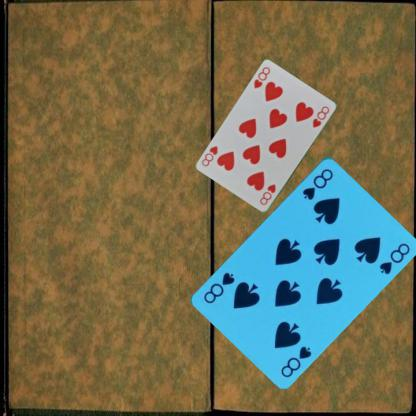8h: (252, 65, 272, 90), (257, 182, 277, 206)
8s: (278, 342, 313, 378), (300, 165, 334, 201)
